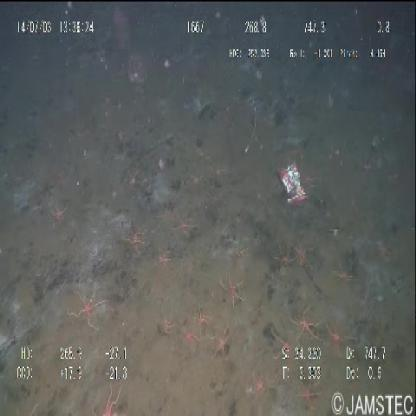Rác: (278, 160, 306, 204)
